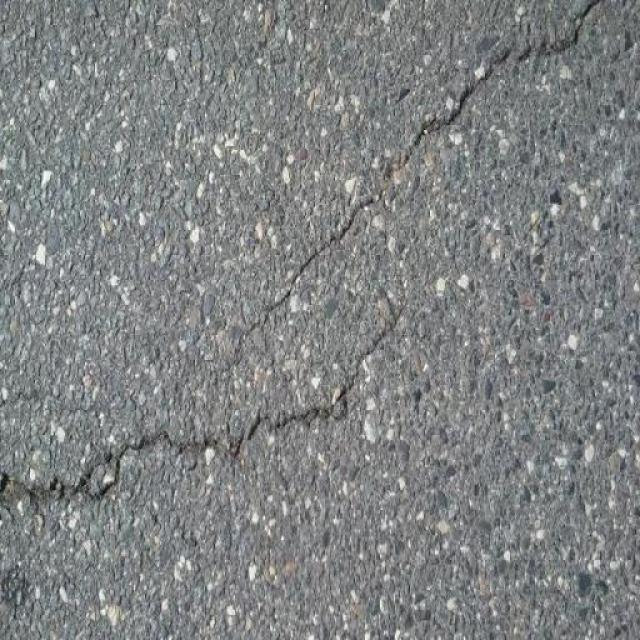Crack: (1, 316, 402, 536)
